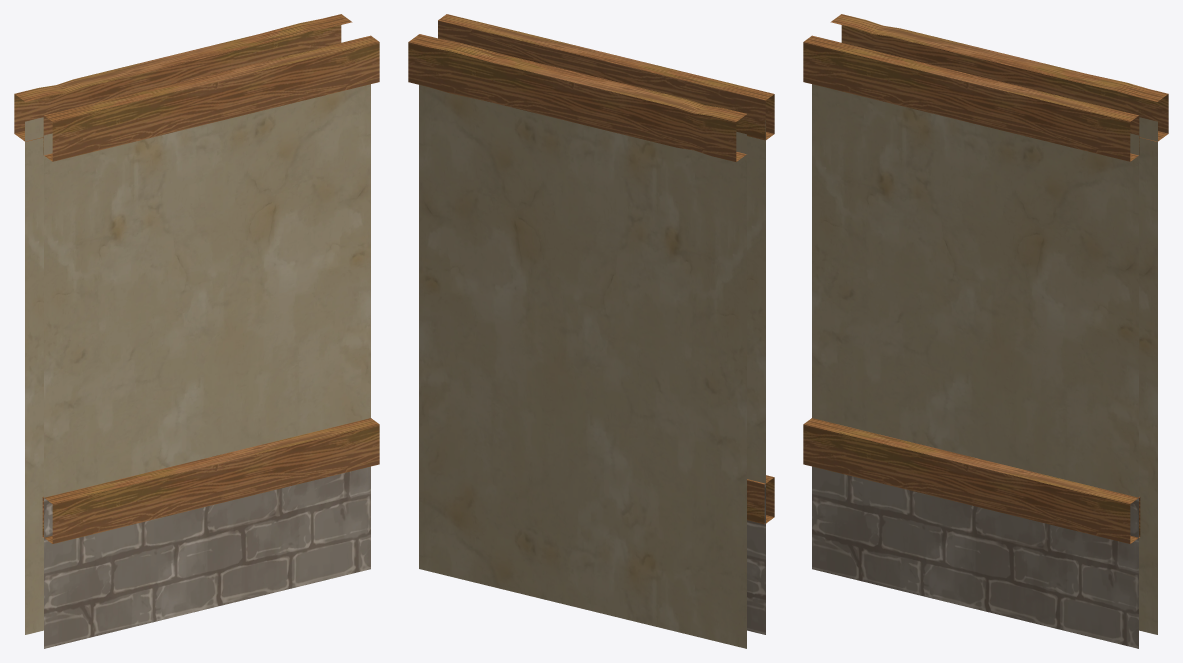
File: Wall_Plaster_Straight_Base.gltf
The picture shows the model from 3 angles, left to right: view 1: azimuth 30°, elevation 25°; view 2: azimuth 150°, elevation 25°; view 3: azimuth 330°, elevation 25°; orthographic projection.
Parts seen in each view (by area): view 1: Wall_Plaster_Straight_Base; view 2: Wall_Plaster_Straight_Base; view 3: Wall_Plaster_Straight_Base.
Part boxes in pixels (box(x1,y1,x2,y2)): Wall_Plaster_Straight_Base: box(14, 14, 379, 648); Wall_Plaster_Straight_Base: box(408, 14, 774, 648); Wall_Plaster_Straight_Base: box(803, 14, 1168, 648).
Bounding box in the file's own units: 2 × 3.12 × 0.4064.
Materials: 3 (3 with a texture image).
